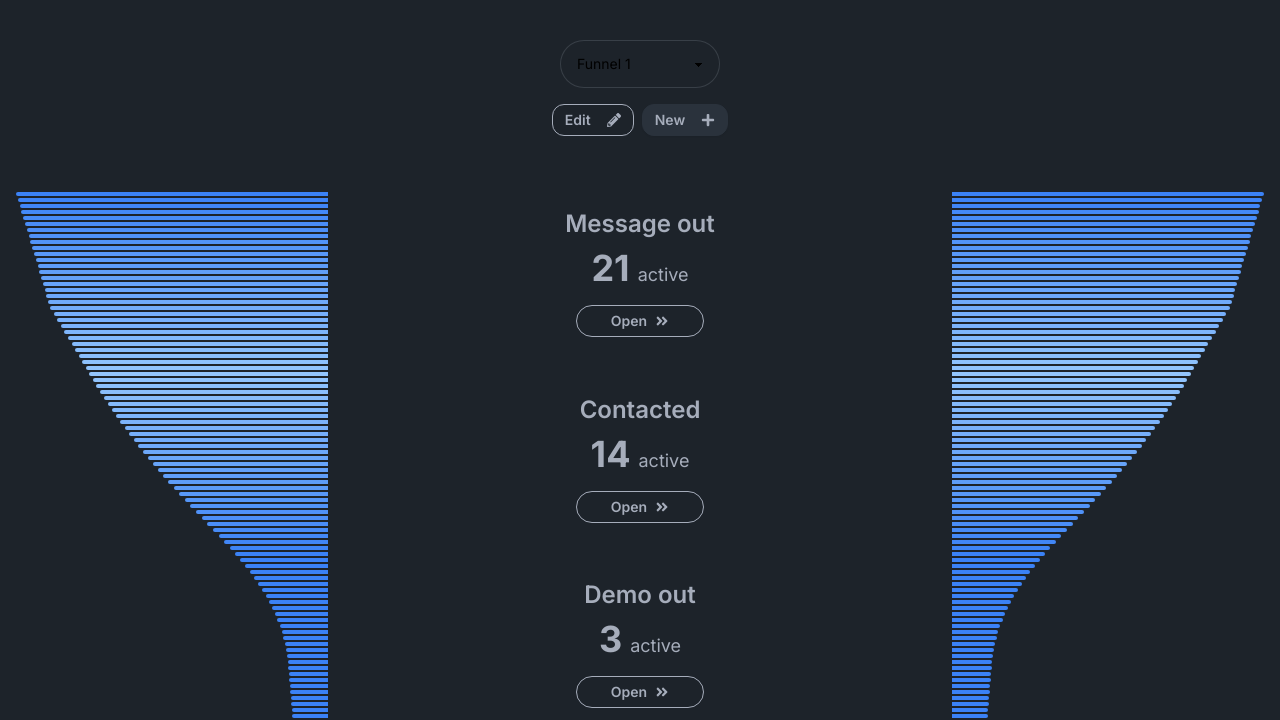
Dashboard › opens modal when stage is clicked
What coordinates should you click on to do the following:
click the button "Open" below "21"
I would click on:
 (640, 321)
Its box is x1=576 y1=305 x2=704 y2=337.
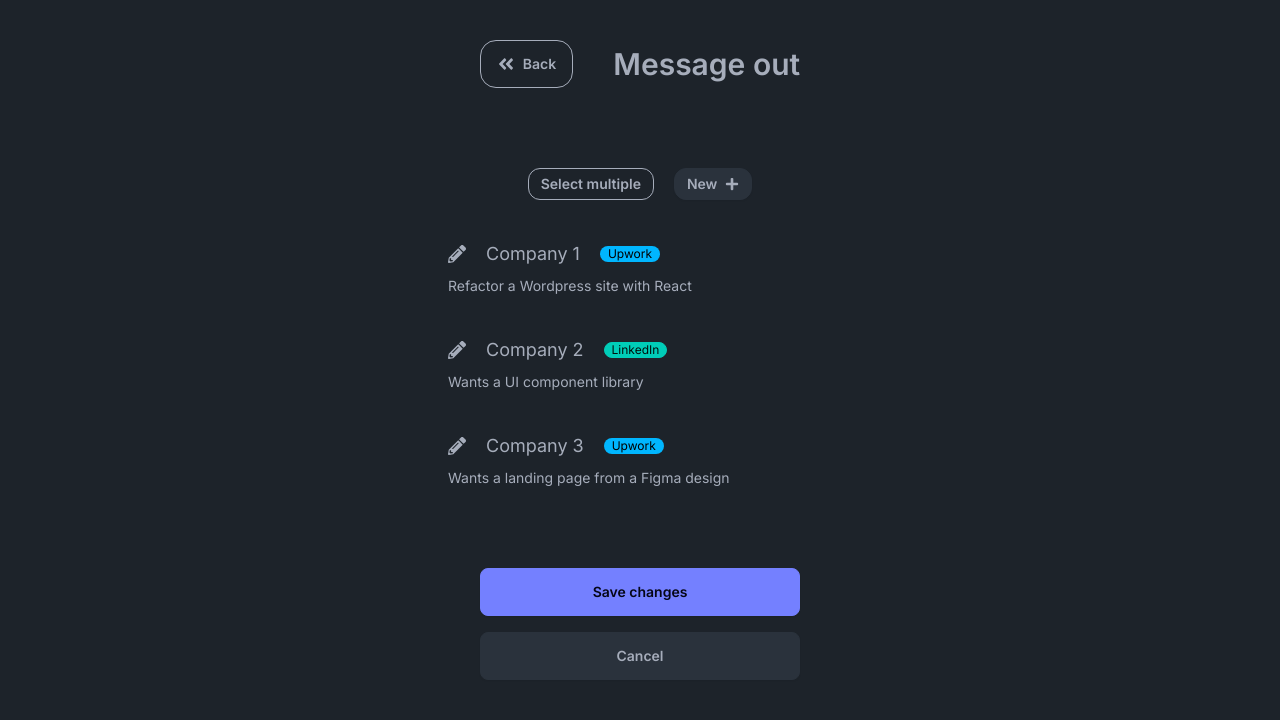
Now the button "Save changes" is shown, box x1=480 y1=568 x2=800 y2=616
